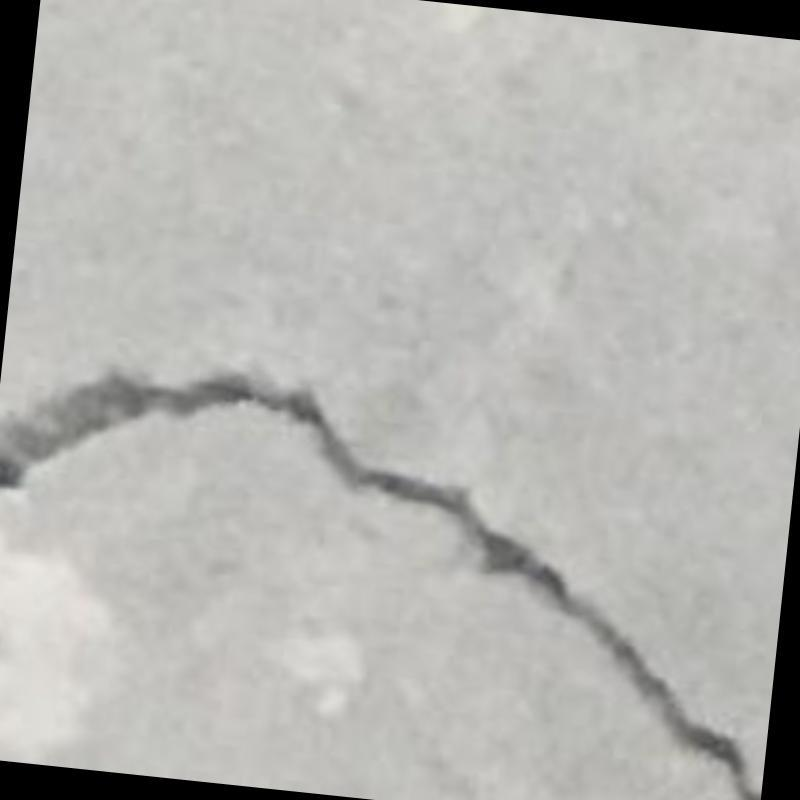pothole: (0, 374, 762, 800)
